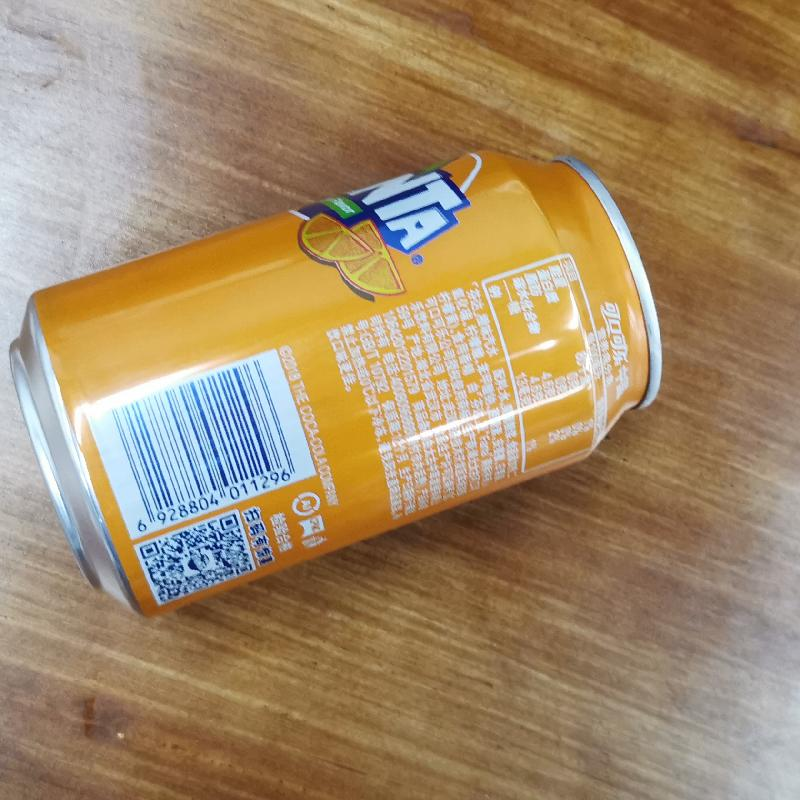cans: (0, 144, 667, 621)
